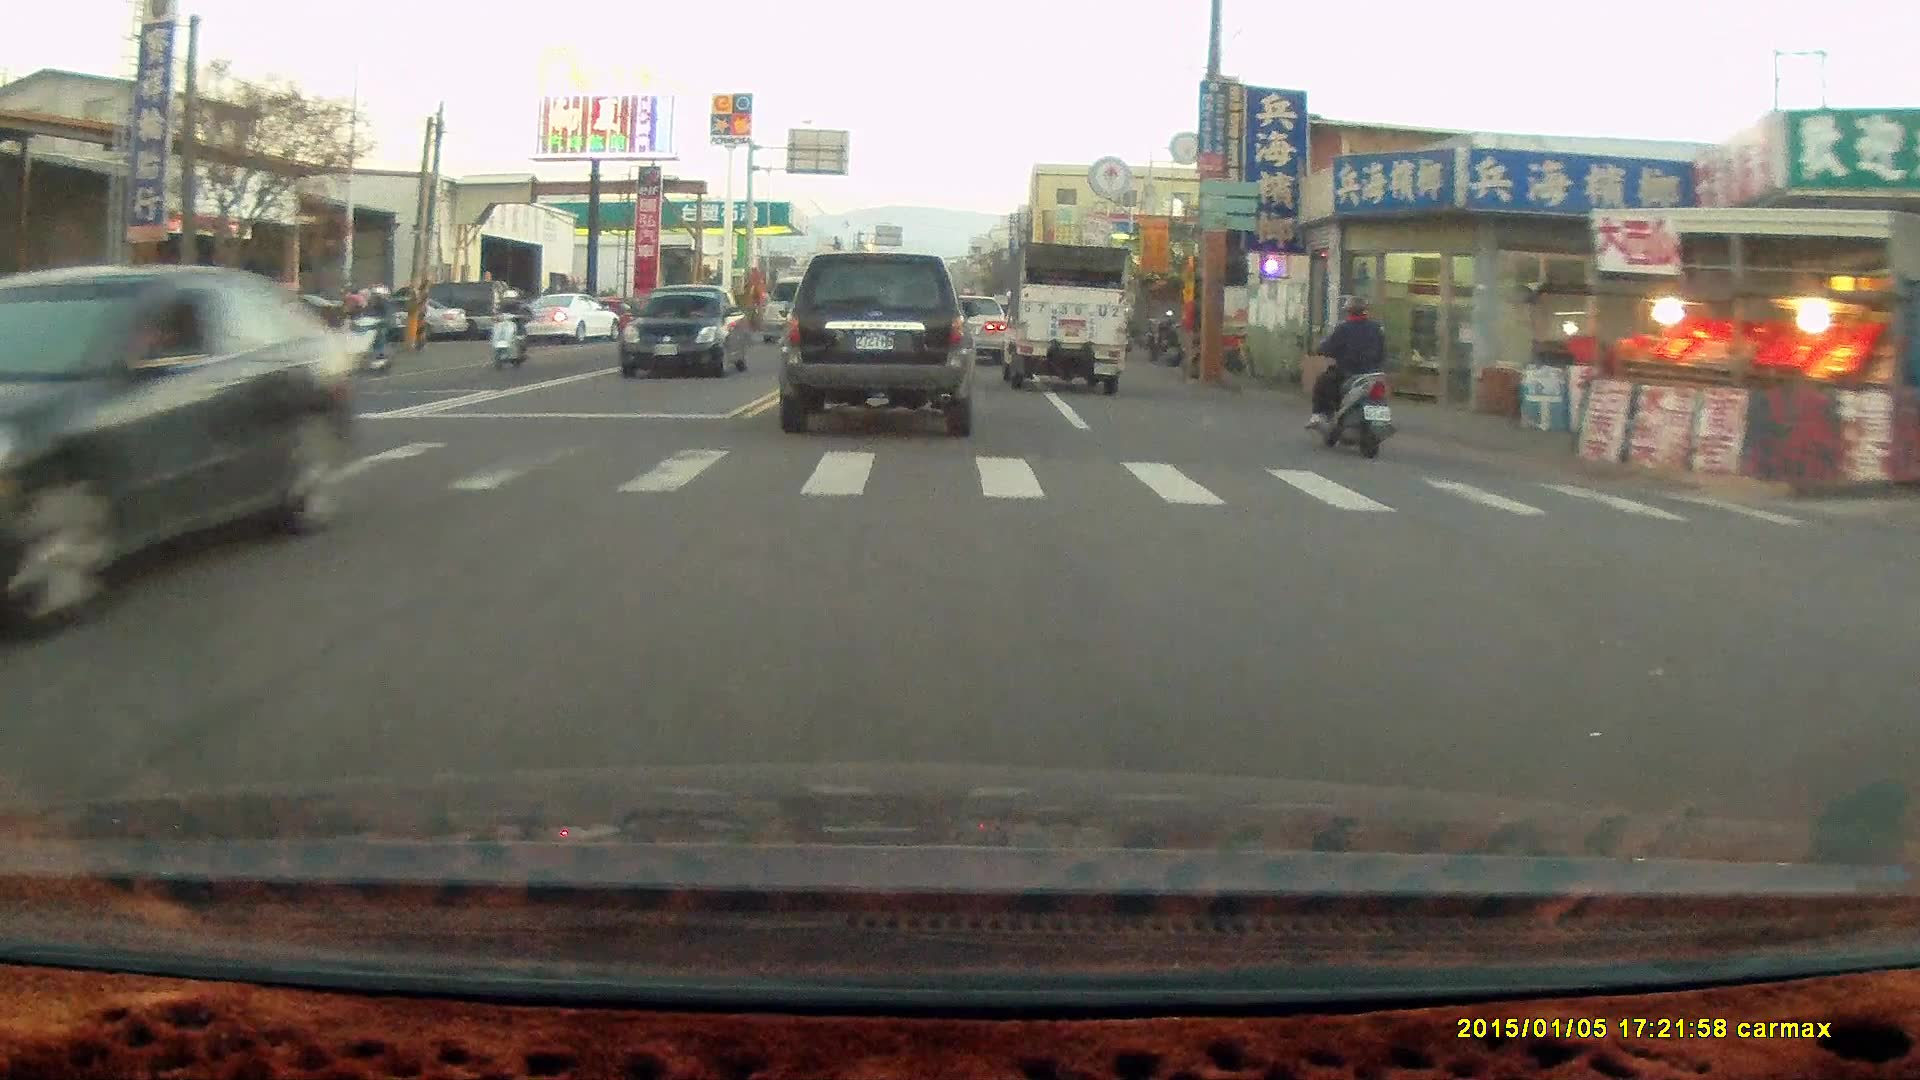rider: (1303, 292, 1395, 457), (334, 284, 403, 381), (490, 283, 535, 365)
vehicle: (1, 262, 357, 646), (772, 250, 983, 437), (997, 238, 1130, 393), (624, 282, 752, 379), (758, 273, 848, 345), (934, 292, 1009, 366), (523, 292, 622, 348)
